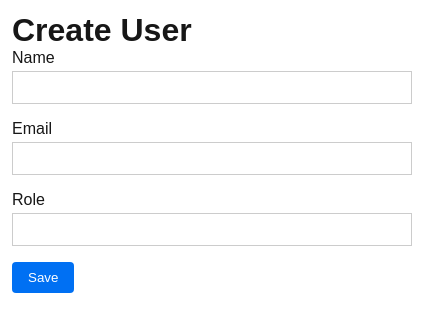
NewUserPage › shows loading state while submitting
Type "John Doe" into the field labelled "Name". click: (212, 88)
box: top-left (12, 71), bottom-right (412, 104)
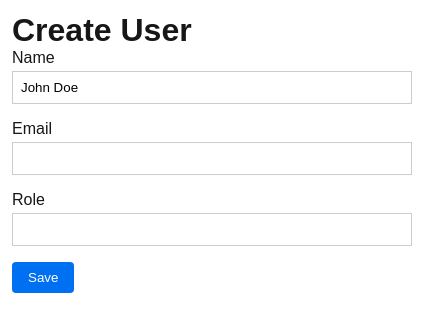
Type "john@example.com" into the field labelled "Email". click: (212, 158)
box: top-left (12, 142), bottom-right (412, 175)
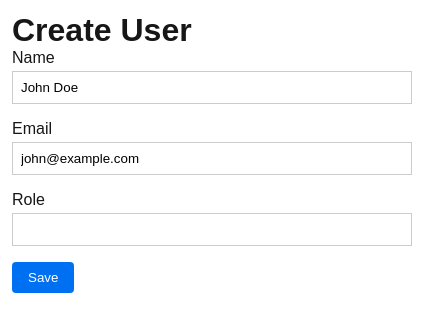
Type "Admin" into the field labelled "Role". click: (212, 230)
box: top-left (12, 213), bottom-right (412, 246)
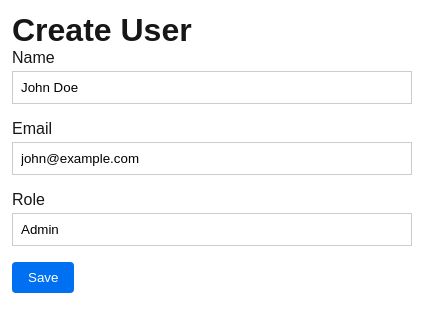
Click the button "Save". click: (43, 278)
box: top-left (12, 262), bottom-right (74, 293)
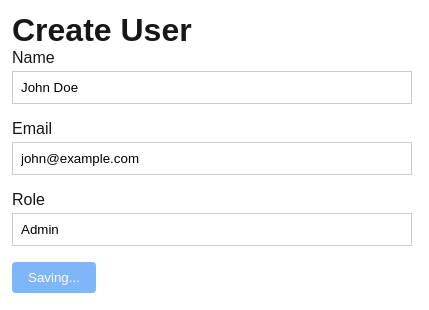
Result: the button "Saving..." is disabled at top-left (12, 262), bottom-right (96, 293)
